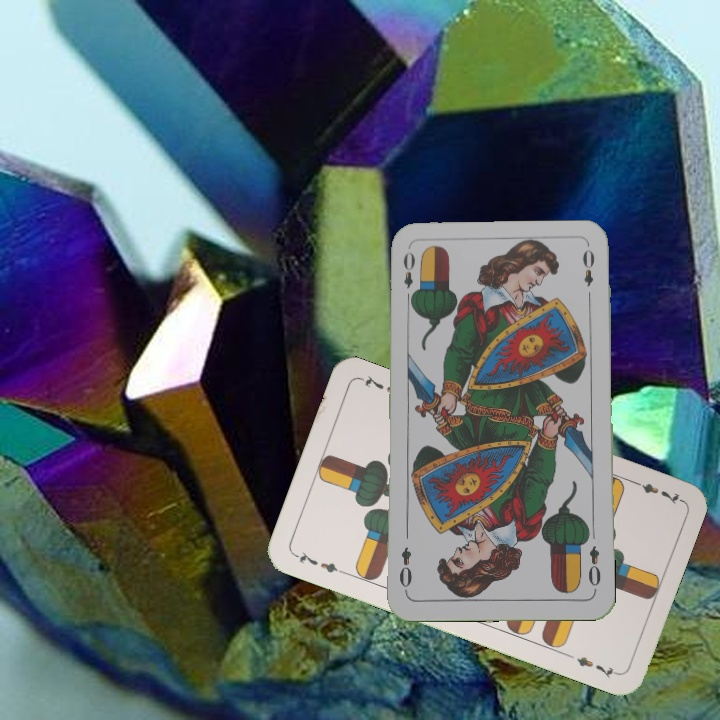E7: (626, 475, 683, 507), (290, 547, 348, 577)
EO: (399, 247, 419, 305), (584, 542, 604, 594)
